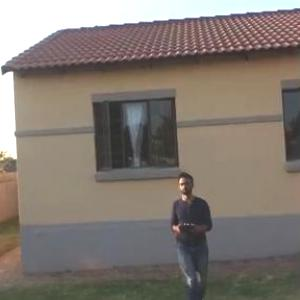follow: (159, 169, 216, 299)
